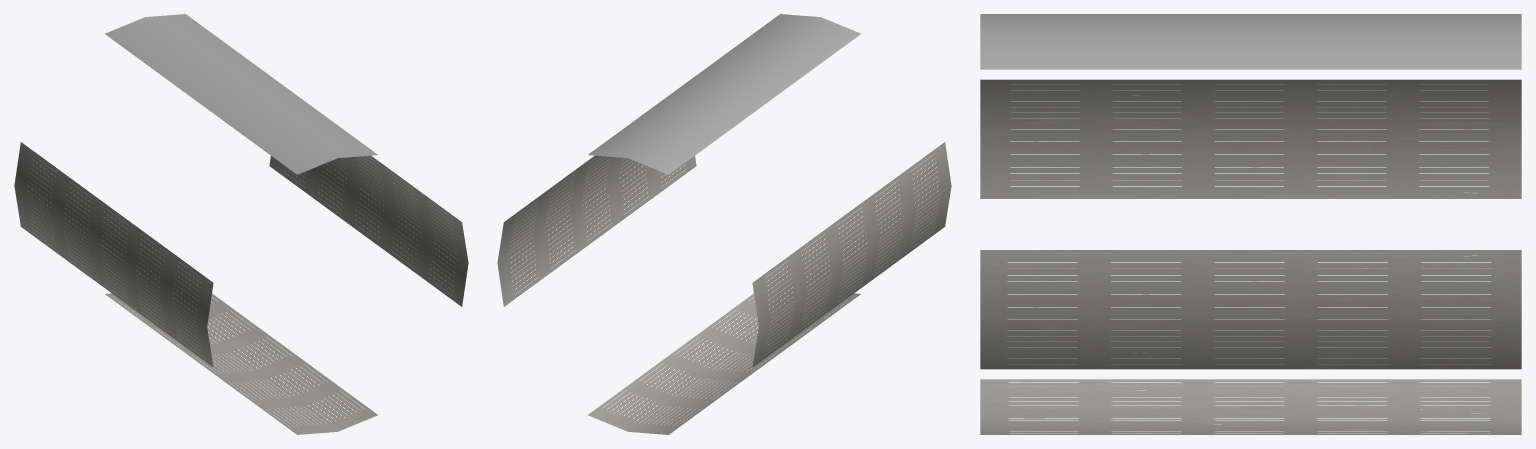
The model's file is s01_straight_ZONES_aa.fbx.
The picture shows the model from 3 angles, left to right: view 1: azimuth 30°, elevation 25°; view 2: azimuth 150°, elevation 25°; view 3: azimuth 270°, elevation 25°; orthographic projection. The views are drawn at different scales.
Parts seen in each view (by area): view 1: z3, z2, z1, z0; view 2: z3, z2, z1, z0; view 3: z3, z1, z2, z0.
Part boxes in pixels (box(x1,y1,x2,y2)): z3: box(14, 142, 213, 367); z2: box(105, 14, 377, 174); z1: box(269, 155, 468, 306); z0: box(105, 293, 377, 434); z3: box(752, 142, 951, 367); z2: box(588, 14, 860, 174); z1: box(497, 155, 696, 306); z0: box(588, 293, 860, 434); z3: box(980, 79, 1521, 198); z1: box(980, 250, 1521, 369); z2: box(980, 14, 1521, 69); z0: box(980, 379, 1521, 434).
Bounding box in the file's own units: 75.19 × 75.19 × 95.99.
Materials: 2 (1 with a texture image).
